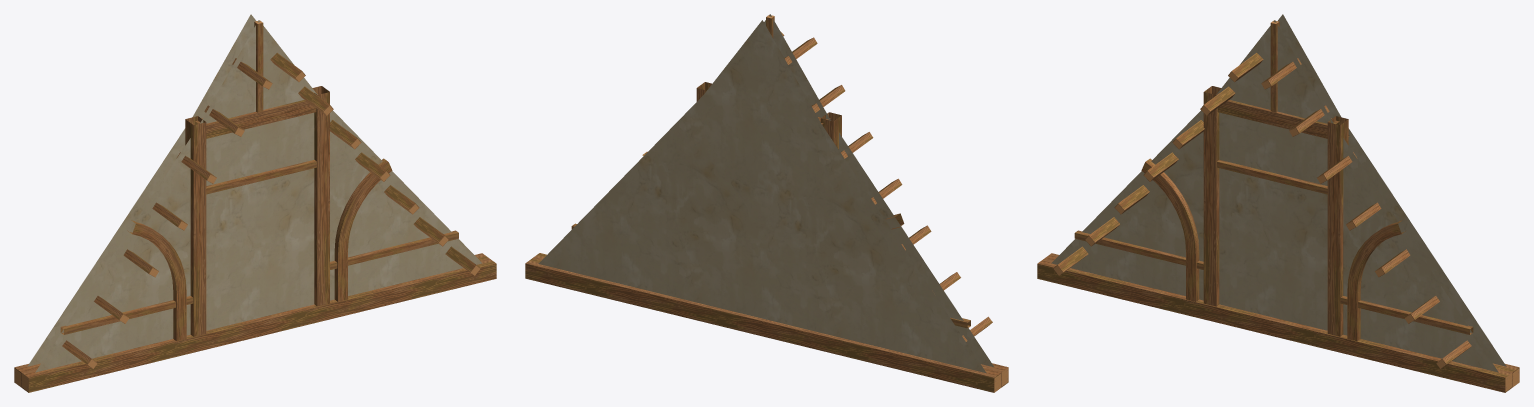
The model's file is Roof_Front_Brick8.gltf.
The picture shows the model from 3 angles, left to right: view 1: azimuth 30°, elevation 25°; view 2: azimuth 150°, elevation 25°; view 3: azimuth 330°, elevation 25°; orthographic projection.
Visible parts, largest first — view 1: Roof_Front_Brick8; view 2: Roof_Front_Brick8; view 3: Roof_Front_Brick8.
Boxes of the visible parts, left/top/right/bottom form: Roof_Front_Brick8: left=14, top=14, right=496, bottom=392; Roof_Front_Brick8: left=525, top=14, right=1008, bottom=392; Roof_Front_Brick8: left=1037, top=14, right=1519, bottom=392.
Size of the model in its own units: 8.51 by 5.45 by 1.13.
Materials: 2 (2 with a texture image).
